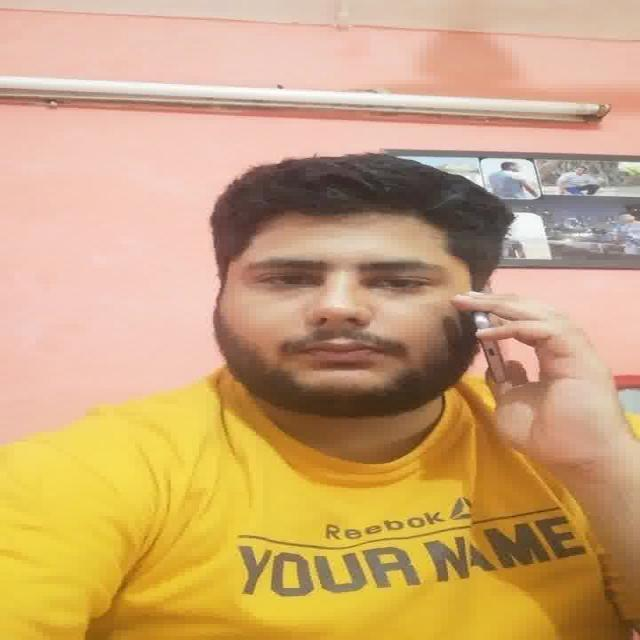Phone: (473, 313, 511, 389)
